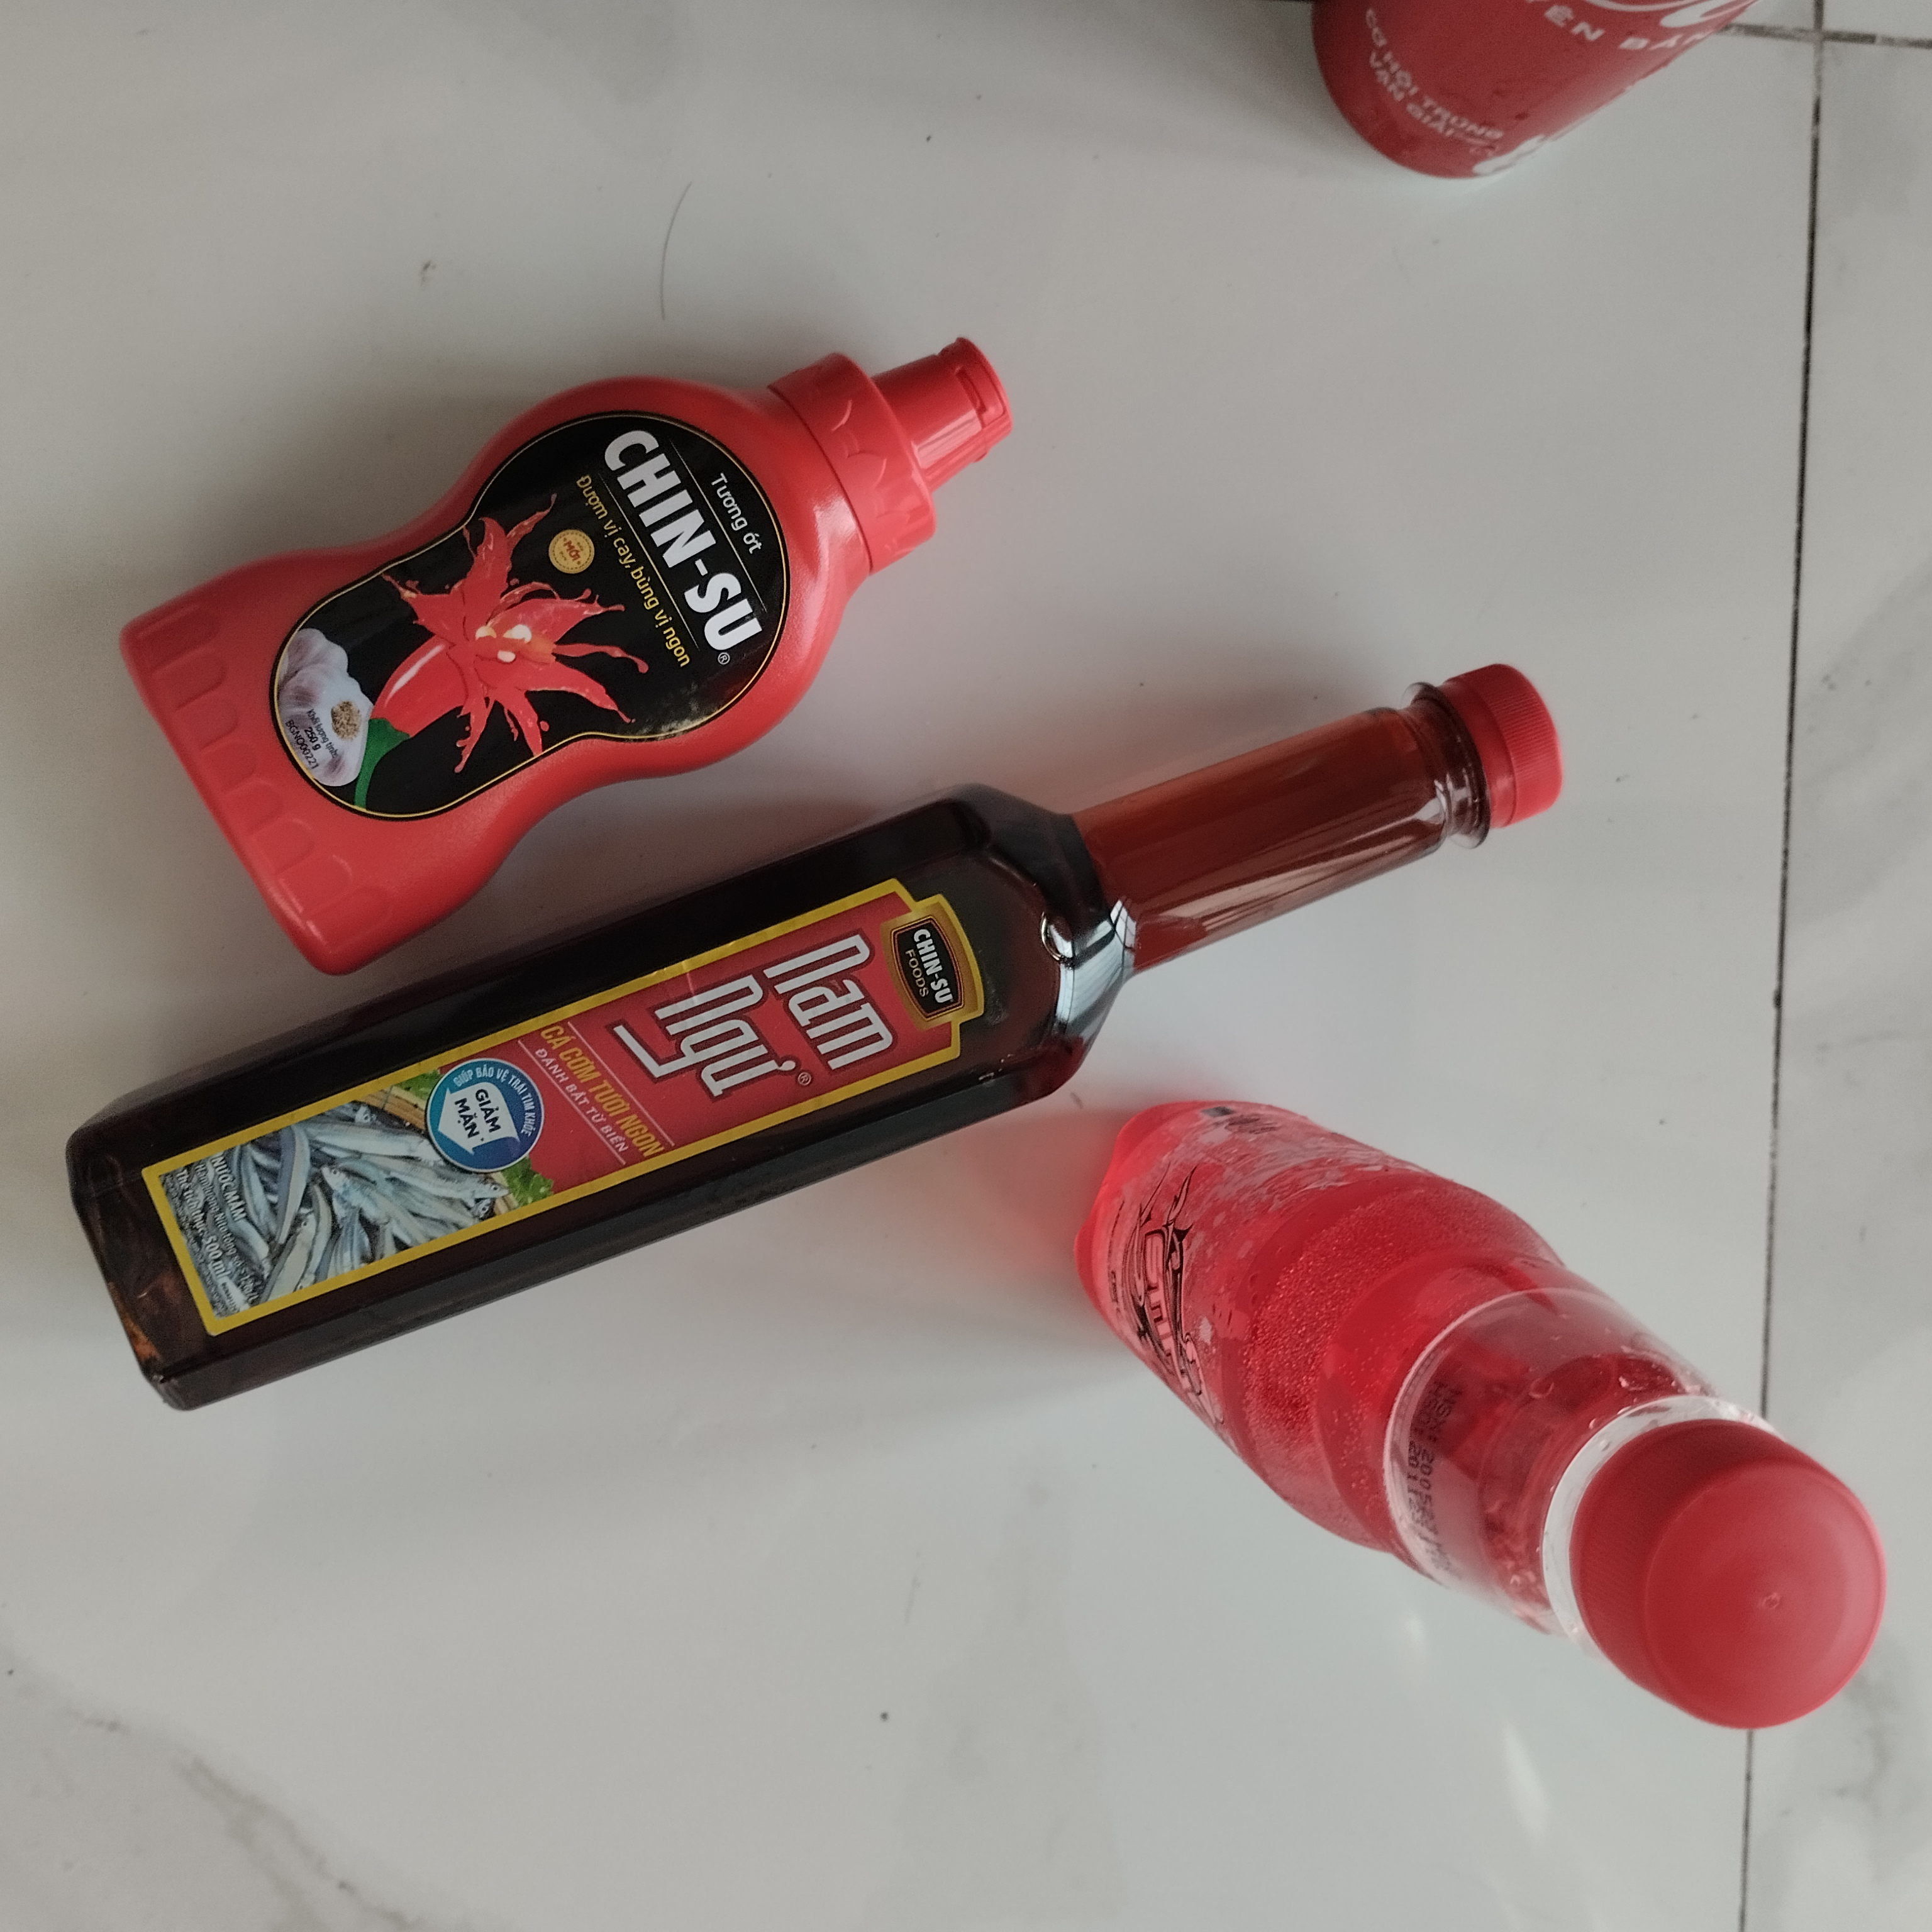Chinsu: (110, 340, 1019, 984)
Namngu: (58, 651, 1562, 1424)
Sting: (1074, 1097, 1888, 1732)
